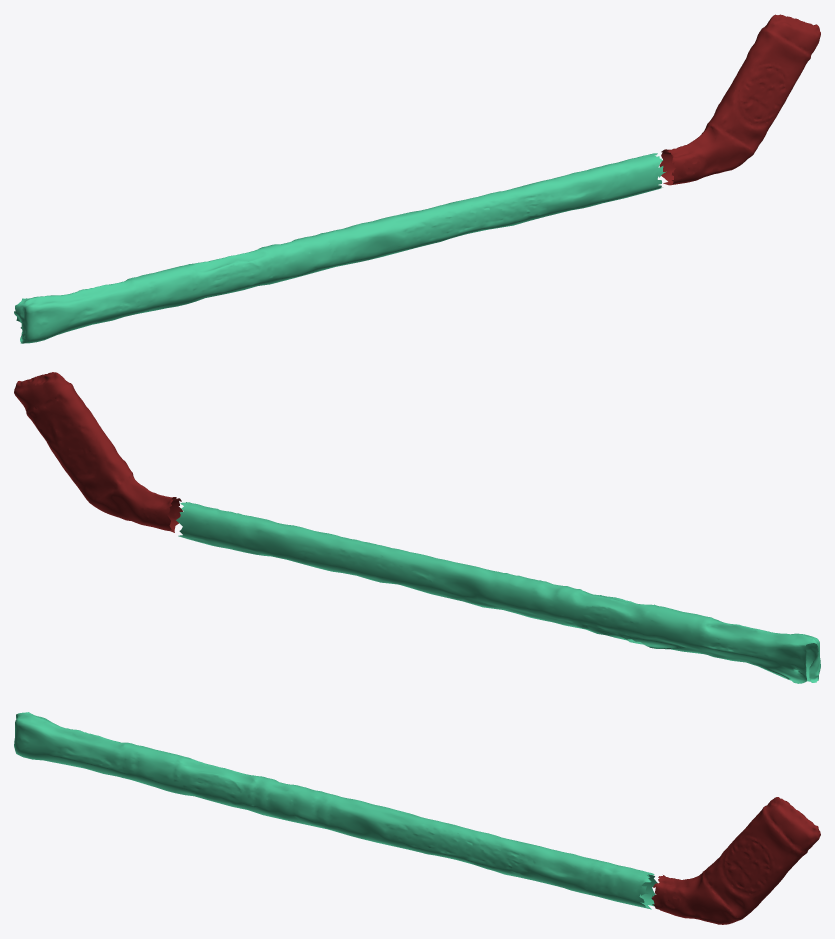
File: object_deformed_7.obj
3 views of the same model, one above another, from view 1: azimuth 30°, elevation 25°; view 2: azimuth 150°, elevation 25°; view 3: azimuth 330°, elevation 25° (orthographic).
Size of the model in its own units: 1.01 by 0.1676 by 0.0509.
